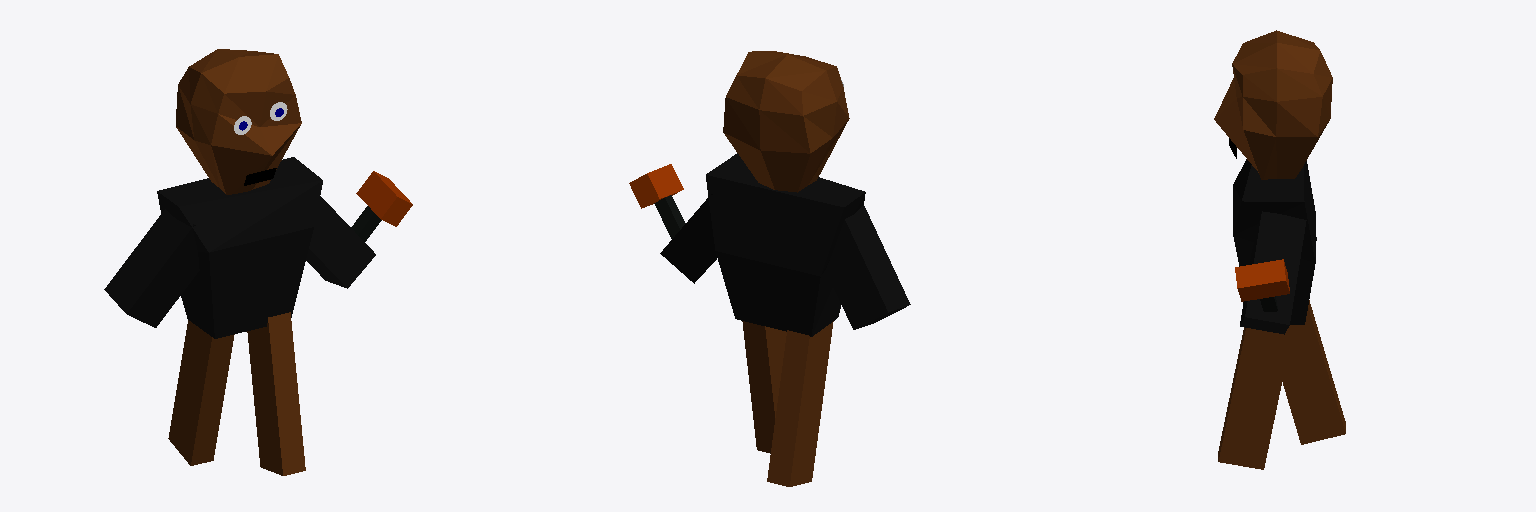
Rendered from servant2.obj.
3 views of the same model, side by side, from view 1: azimuth 30°, elevation 25°; view 2: azimuth 150°, elevation 25°; view 3: azimuth 270°, elevation 25° (orthographic).
Parts seen in each view (by area): view 1: Cube.001, Cube, Cube.005, Cube.003, Cube.004, Cube.002, Cube.008, Cube.007; view 2: Cube.001, Cube, Cube.004, Cube.003, Cube.005, Cube.002, Cube.008, Cube.007; view 3: Cube, Cube.005, Cube.001, Cube.004, Cube.002, Cube.008.
Part boxes in pixels (left/top/right/bottom): Cube.001: left=157, top=157, right=322, bottom=338; Cube: left=176, top=49, right=301, bottom=194; Cube.005: left=247, top=312, right=305, bottom=475; Cube.003: left=104, top=209, right=199, bottom=327; Cube.004: left=168, top=320, right=234, bottom=465; Cube.002: left=306, top=196, right=375, bottom=288; Cube.008: left=356, top=171, right=412, bottom=226; Cube.007: left=351, top=206, right=381, bottom=241; Cube.001: left=706, top=153, right=865, bottom=336; Cube: left=723, top=51, right=849, bottom=192; Cube.004: left=767, top=321, right=833, bottom=486; Cube.003: left=825, top=205, right=910, bottom=329; Cube.005: left=742, top=321, right=786, bottom=453; Cube.002: left=660, top=194, right=716, bottom=283; Cube.008: left=629, top=164, right=683, bottom=208; Cube.007: left=654, top=195, right=685, bottom=238; Cube: left=1214, top=30, right=1332, bottom=179; Cube.005: left=1218, top=325, right=1293, bottom=469; Cube.001: left=1233, top=159, right=1315, bottom=324; Cube.004: left=1282, top=300, right=1345, bottom=444; Cube.002: left=1240, top=211, right=1306, bottom=334; Cube.008: left=1235, top=259, right=1289, bottom=301.
Bounding box in the file's own units: 4.16 × 5.98 × 1.75.